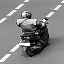motor: (14, 10, 50, 56)
